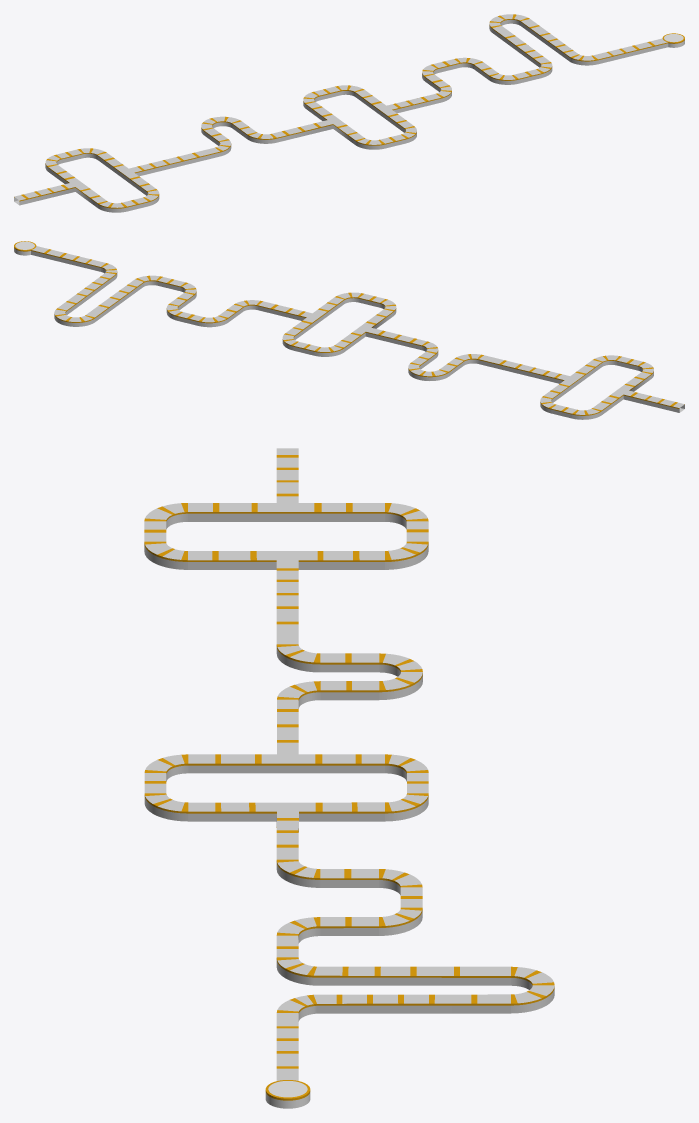
Rendered from Map_2.fbx.
3 views of the same model, one above another, from view 1: azimuth 30°, elevation 25°; view 2: azimuth 150°, elevation 25°; view 3: azimuth 270°, elevation 25° (orthographic). The views are drawn at different scales.
Parts seen in each view (by area): view 1: Map_2; view 2: Map_2; view 3: Map_2.
Boxes of the visible parts, box(x1,y1,x2,y2) form: Map_2: box(14, 14, 684, 212); Map_2: box(14, 241, 684, 419); Map_2: box(144, 448, 554, 1108).
Bounding box in the file's own units: 949 × 6.94 × 253.
